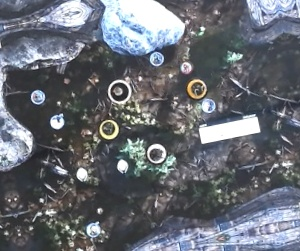black: (105, 77, 132, 104)
lime_green_violet: (95, 115, 122, 142)
white: (143, 141, 170, 168)
yellow_night_blue: (185, 74, 212, 101)
